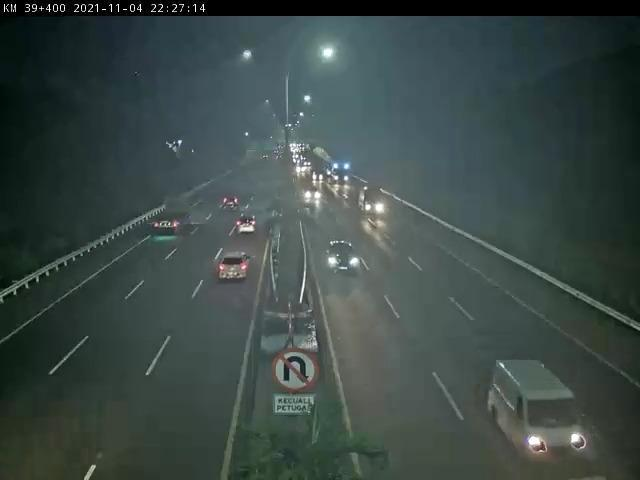car: (486, 358, 593, 462), (326, 242, 362, 277), (219, 254, 251, 281), (237, 217, 258, 235), (222, 197, 241, 210)
truck: (151, 196, 192, 235), (357, 187, 386, 217)
